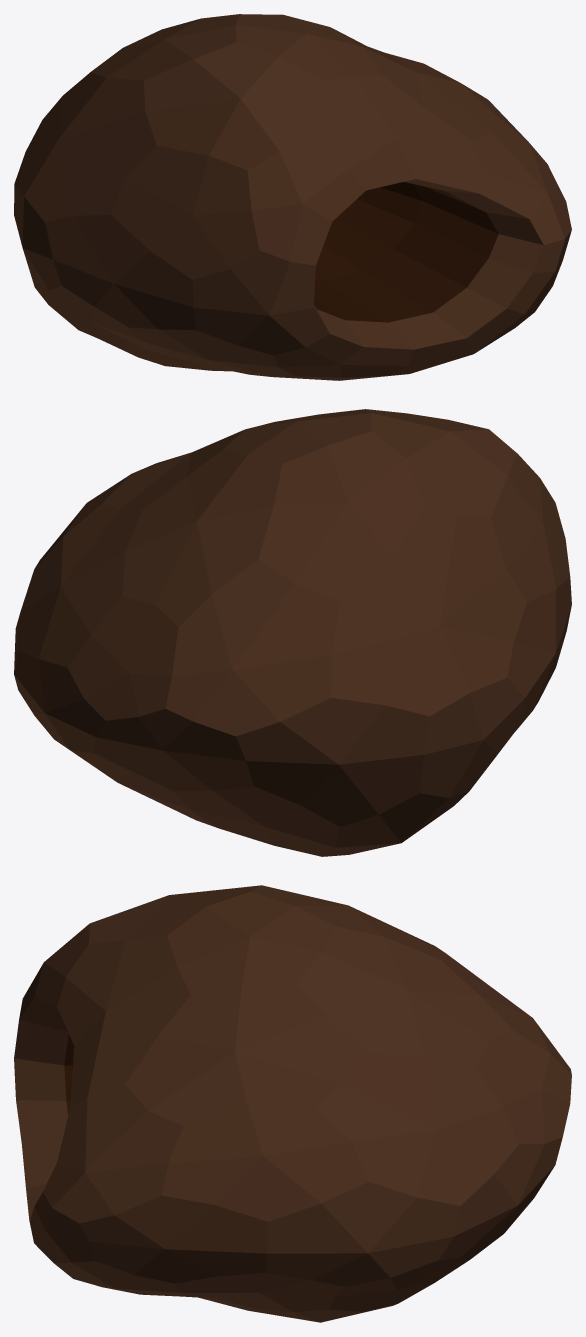
The model's file is Madriguera.fbx.
The picture shows the model from 3 angles, top to bottom: view 1: azimuth 30°, elevation 25°; view 2: azimuth 150°, elevation 25°; view 3: azimuth 270°, elevation 25°; orthographic projection. The views are drawn at different scales.
Visible parts, largest first — view 1: Icosphere; view 2: Icosphere; view 3: Icosphere.
Boxes of the visible parts, x1,y1,x2,y2 form: Icosphere: [14, 14, 571, 380]; Icosphere: [14, 409, 571, 856]; Icosphere: [14, 885, 571, 1322].
Size of the model in its own units: 425 by 322 by 435.
Materials: 1 (1 with a texture image).
